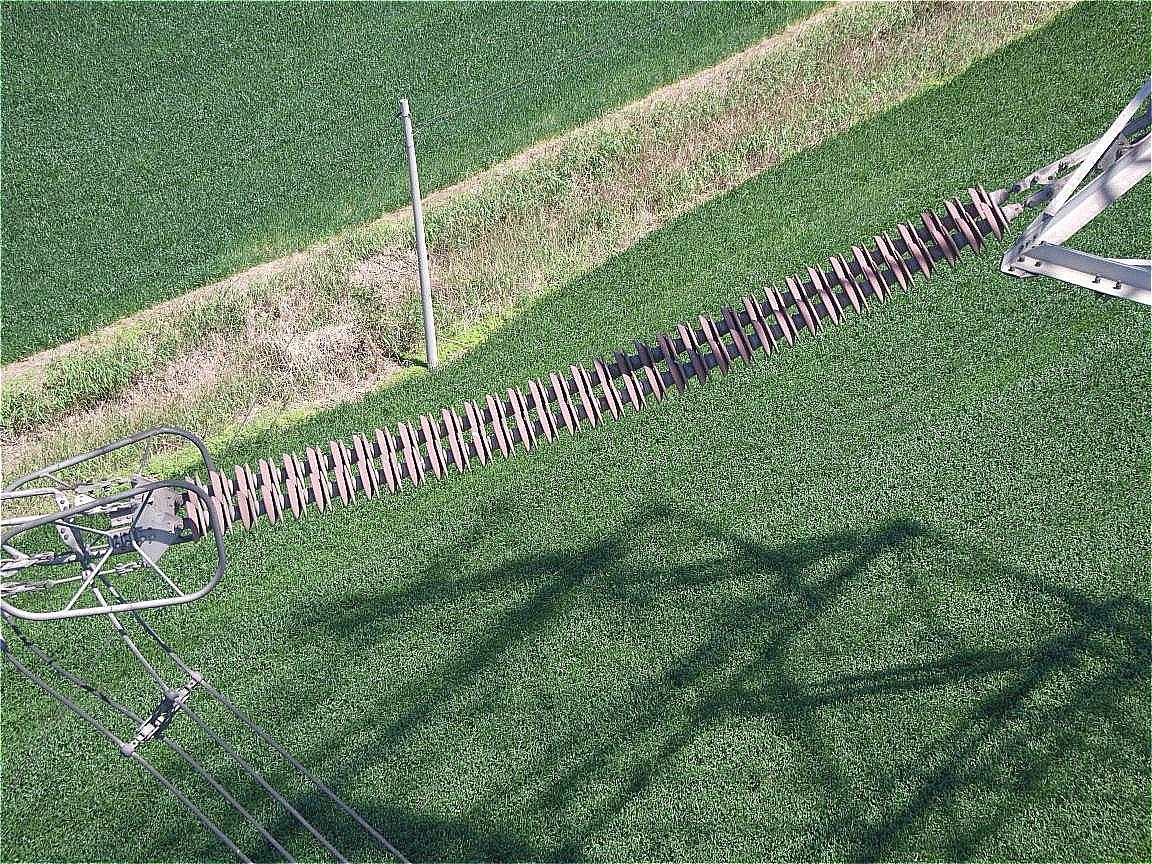insultor2: (137, 152, 1044, 581)
